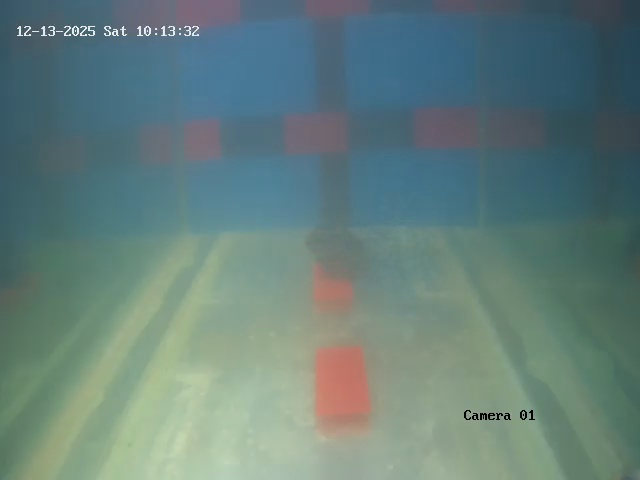fish: (299, 226, 382, 275)
